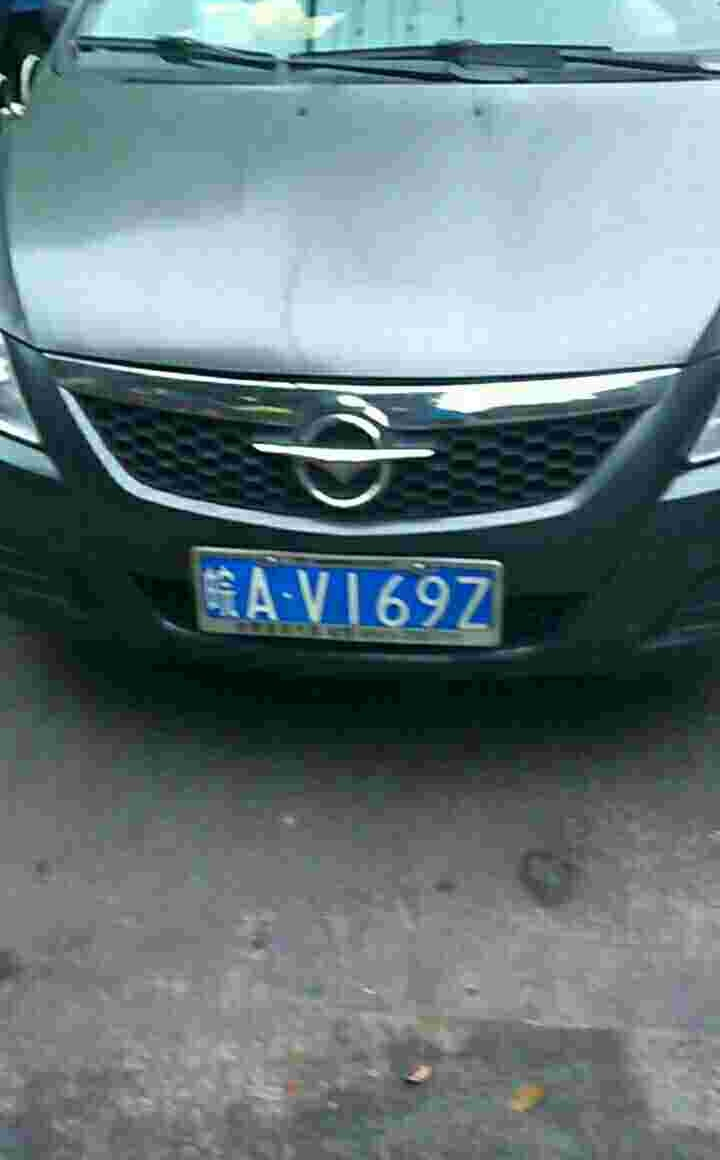license_plate: (196, 549, 485, 640)
